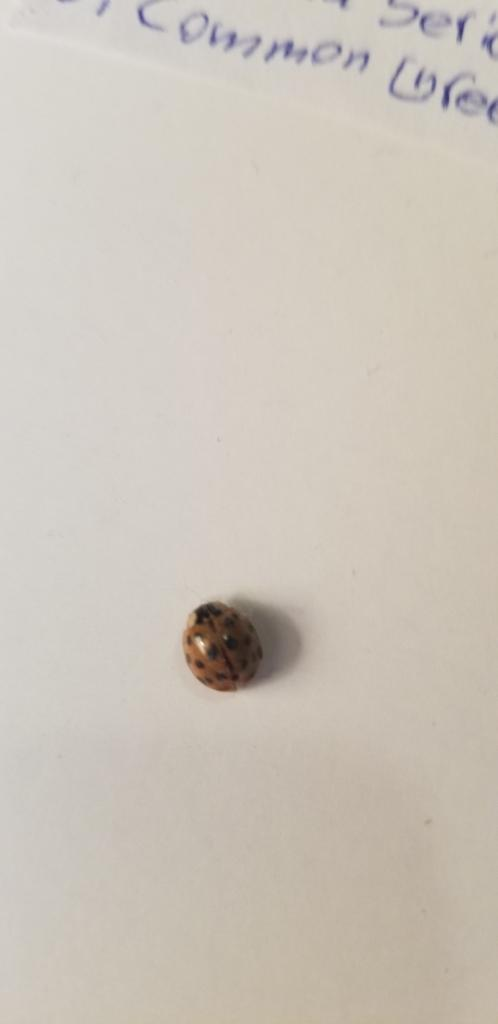ladybug: (181, 599, 268, 694)
